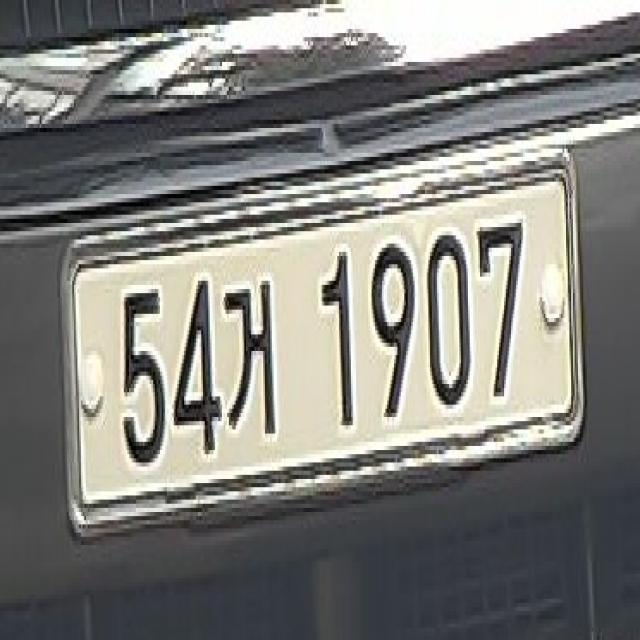0: (428, 215, 480, 442)
1: (317, 231, 363, 442)
4: (172, 260, 225, 487)
5: (117, 272, 169, 475)
7: (472, 202, 538, 442)
9: (366, 219, 424, 438)
geo: (220, 256, 282, 446)
license_plate: (62, 140, 590, 562)
